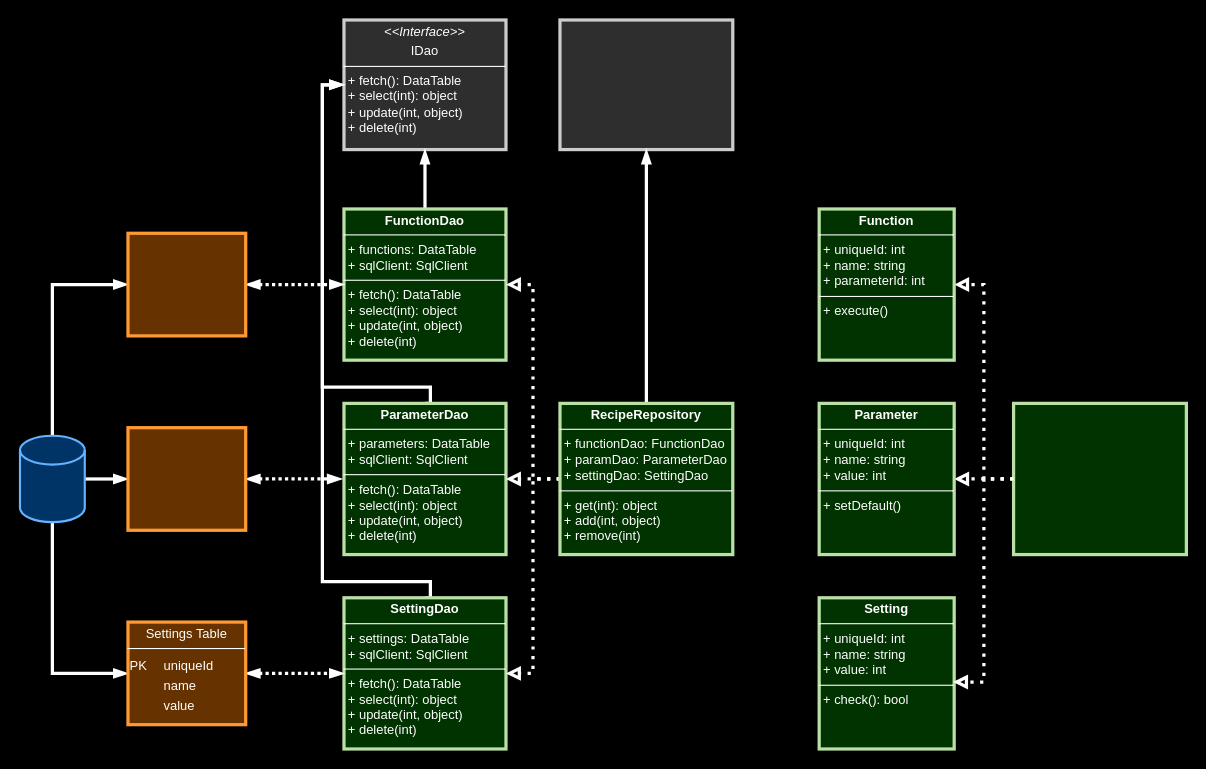
The diagram is 1206 pixels wide and 769 high, and some of its shapes have lost their labels. The shapes that lost their labels are listed below. From the top down, each one's box as (x1, y1, x2, y2) in pixels, then its label:
(558, 18, 734, 151): <<Interface>> IRepository + get(int): object + add(int, object) + remove(int)
(126, 231, 247, 337): Functions Table PK uniqueId name parameterId
(18, 434, 85, 523): DB
(126, 426, 247, 531): Parameters Table PK uniqueId name value
(1011, 401, 1187, 556): Recipe + functions: Function + parameters: Parameter + settings: Setting + run()
